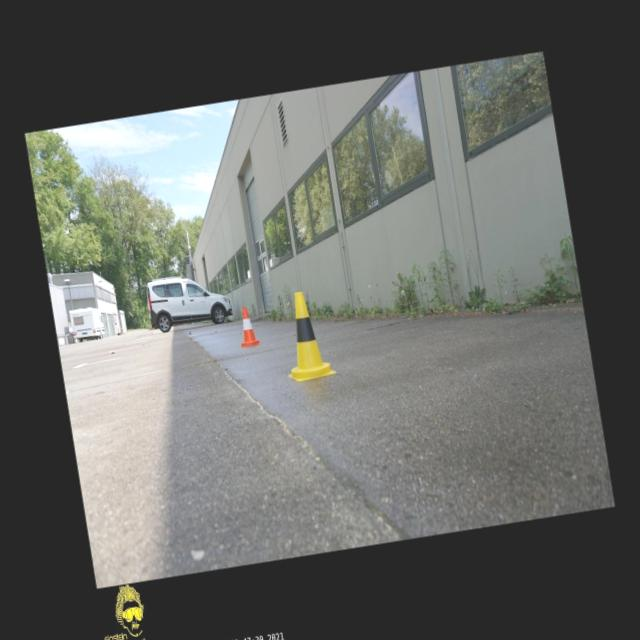orange_cone: (235, 306, 261, 348)
yellow_cone: (275, 288, 336, 382)
